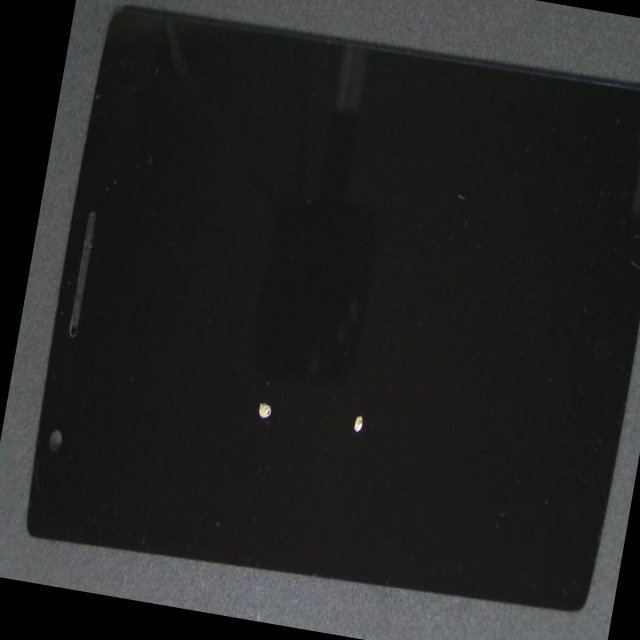stain: (172, 167, 581, 640), (103, 104, 421, 624)
